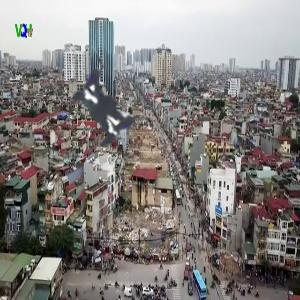drone: (18, 14, 201, 197)
